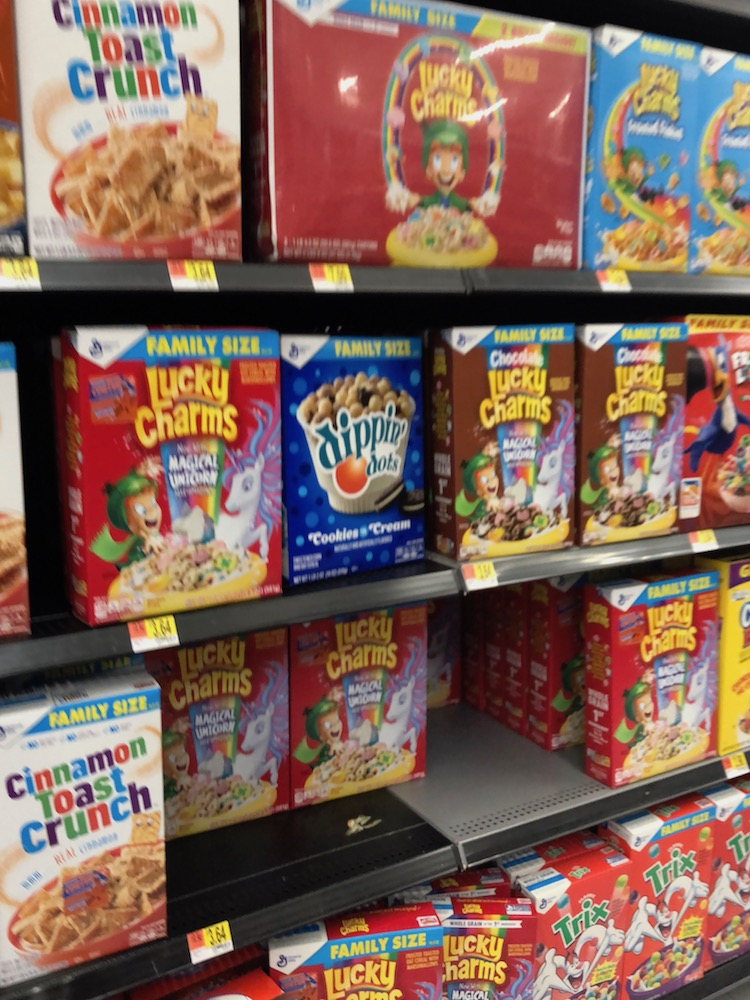Dippin Dots Cookies & Cream -568929378: (273, 323, 446, 571)
